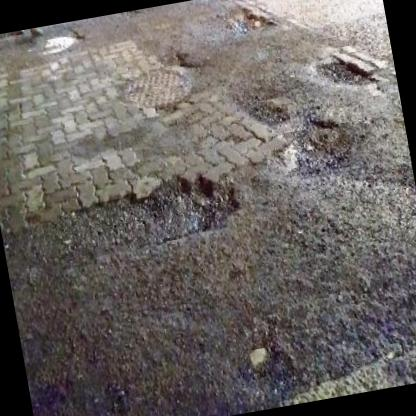pothole: (57, 160, 244, 262), (270, 110, 360, 182), (314, 50, 378, 92), (219, 0, 278, 40), (38, 24, 86, 58), (246, 95, 288, 129)
